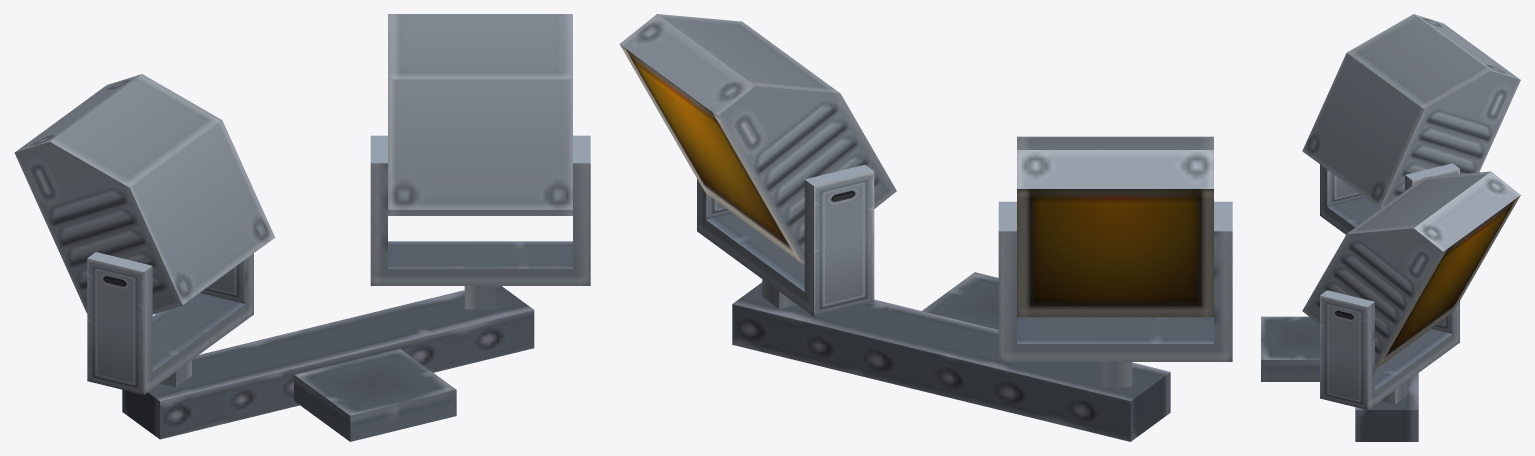
The model's file is flood_lights.fbx.
The picture shows the model from 3 angles, left to right: view 1: azimuth 30°, elevation 25°; view 2: azimuth 150°, elevation 25°; view 3: azimuth 270°, elevation 25°; orthographic projection. The views are drawn at different scales.
Visible parts, largest first — view 1: flood_lights; view 2: flood_lights; view 3: flood_lights.
Boxes of the visible parts, box(x1,y1,x2,y2) form: flood_lights: box(14, 14, 590, 441); flood_lights: box(619, 14, 1232, 441); flood_lights: box(1261, 14, 1520, 441).
Size of the model in its own units: 2.29 by 1.14 by 1.1.
